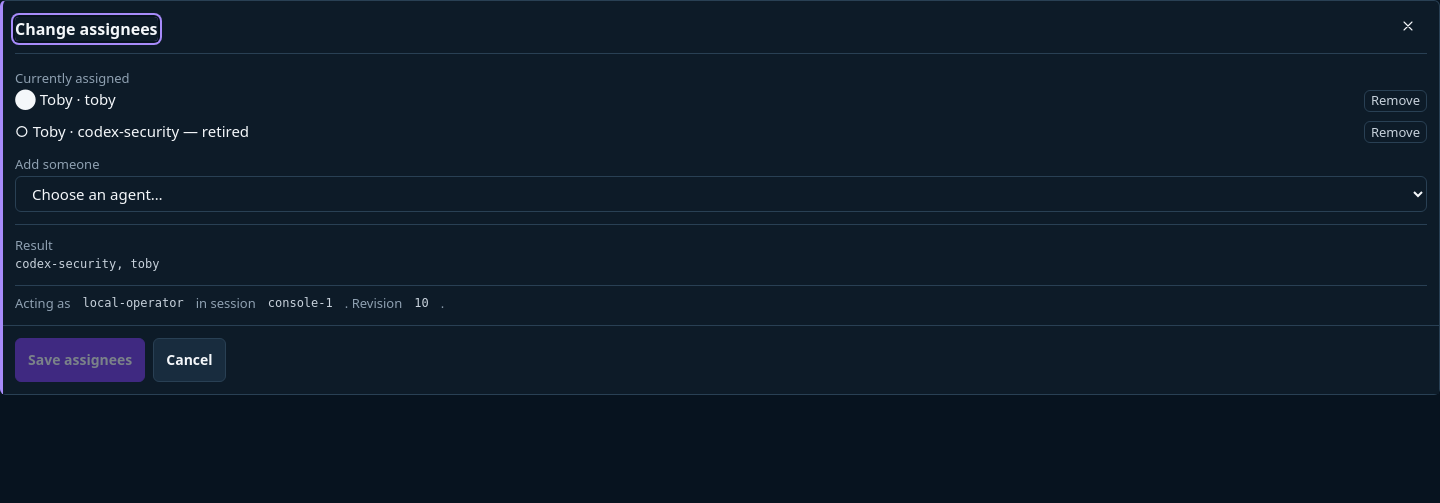
Test: AssigneeEditor — clause 6, errors › maps the claim-owner refusal to its copy, naming the agent
The width and height of the screenshot is (1440, 503).
Step 1. Click the button "Remove" in the row of "Toby · toby" → (1395, 100), box x1=1364 y1=90 x2=1427 y2=112
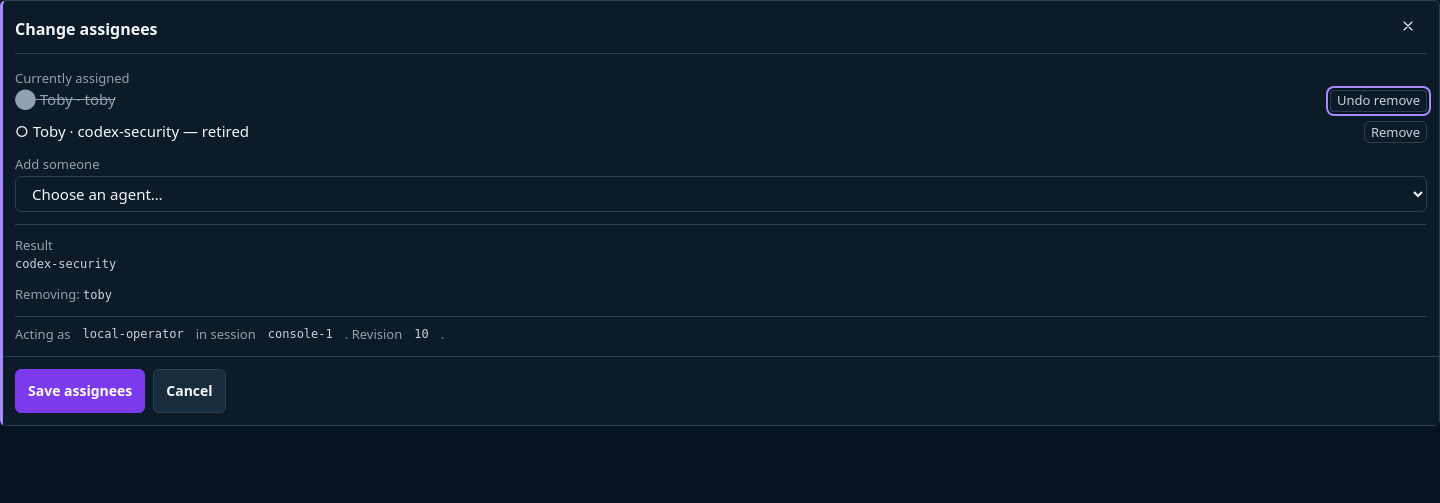
Step 2. Click the button "Save assignees" → (80, 391), box x1=15 y1=369 x2=145 y2=413
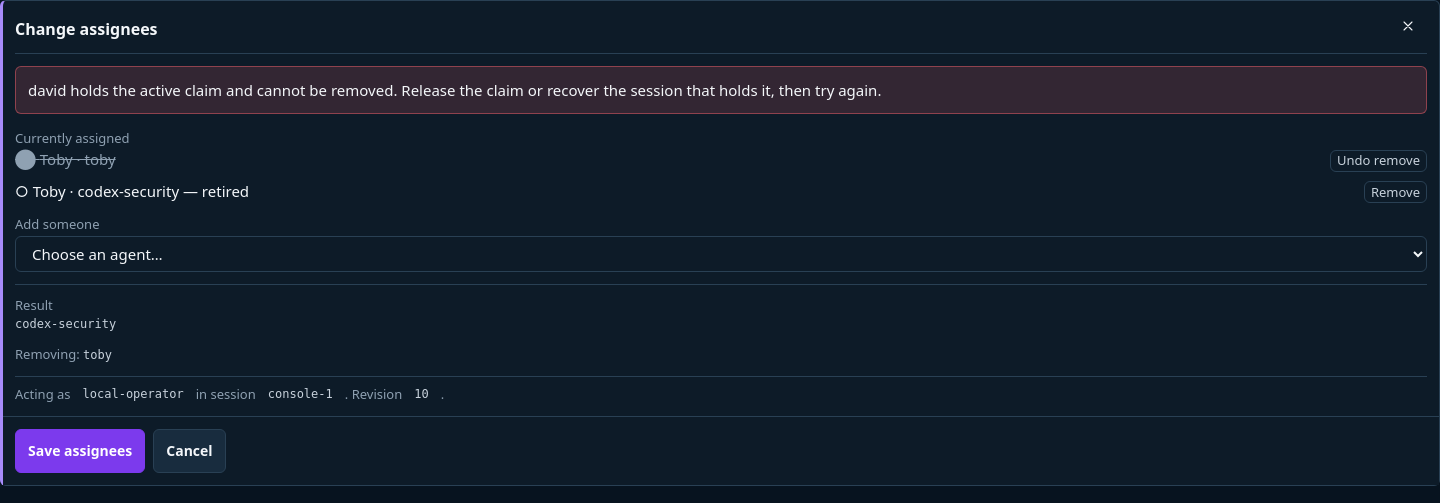
Now the message is shown, box x1=15 y1=66 x2=1427 y2=114
Now the text "david holds the active claim and cannot be removed" is shown, box x1=28 y1=80 x2=881 y2=100
